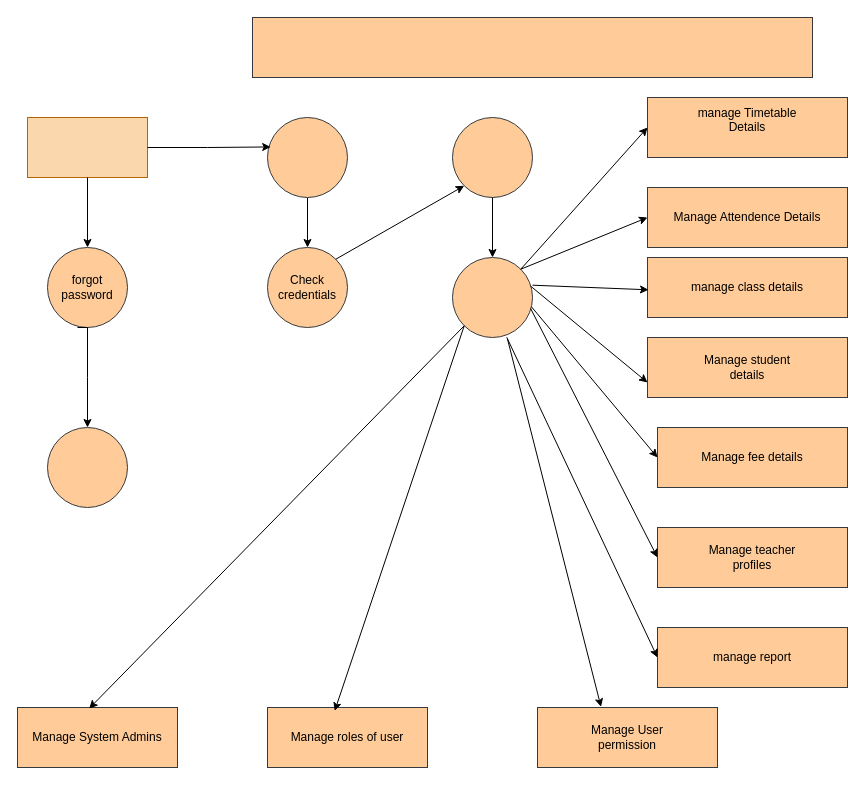
Image size: 865x785. Some labels were removed from this diagram. Here are the shapes that lost their labels. From the top down, the centre of each, then its label:
(532,47): Student Information System
(87,147): Admin
(307,157): system
(492,157): manage Access
(492,297): manage Modules
(87,467): Send Email user
